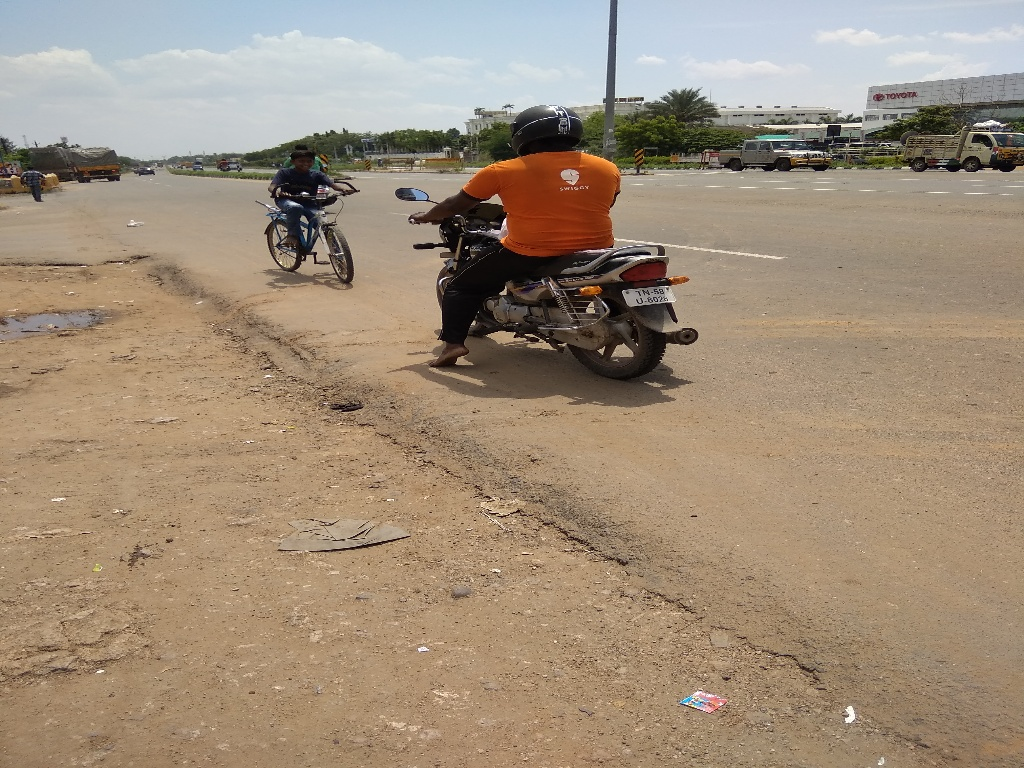biker: (387, 56, 720, 394)
helmet: (494, 94, 598, 176)
